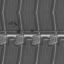dust: (16, 28, 20, 33), (30, 29, 34, 32)
